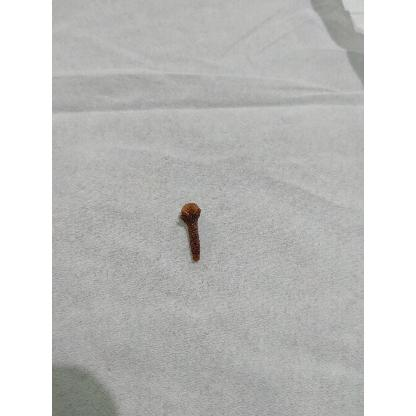sedang: (179, 203, 201, 263)
